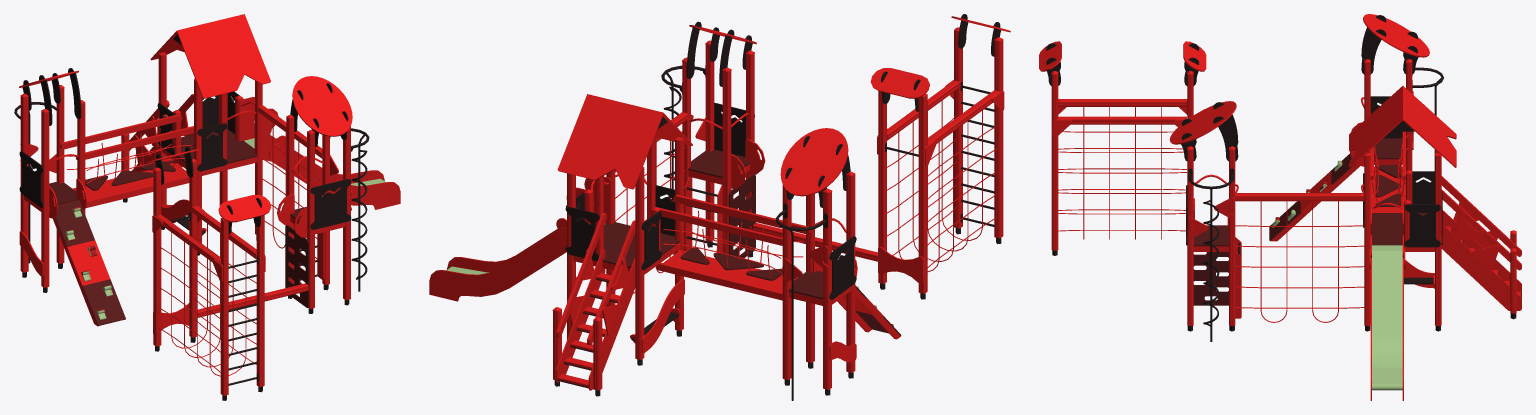
The model's file is SM_Childrenplay_v01.FBX.
3 renders of one model, left to right at view 1: azimuth 30°, elevation 25°; view 2: azimuth 150°, elevation 25°; view 3: azimuth 270°, elevation 25°, orthographic. The views are drawn at different scales.
Parts seen in each view (by area): view 1: SM_ChildrenPlay; view 2: SM_ChildrenPlay; view 3: SM_ChildrenPlay.
Boxes of the visible parts, x1,y1,x2,y2 form: SM_ChildrenPlay: (14, 14, 400, 400); SM_ChildrenPlay: (429, 14, 1010, 400); SM_ChildrenPlay: (1039, 14, 1521, 400).
Bounding box in the file's own units: 6.55 × 3.71 × 7.49.
